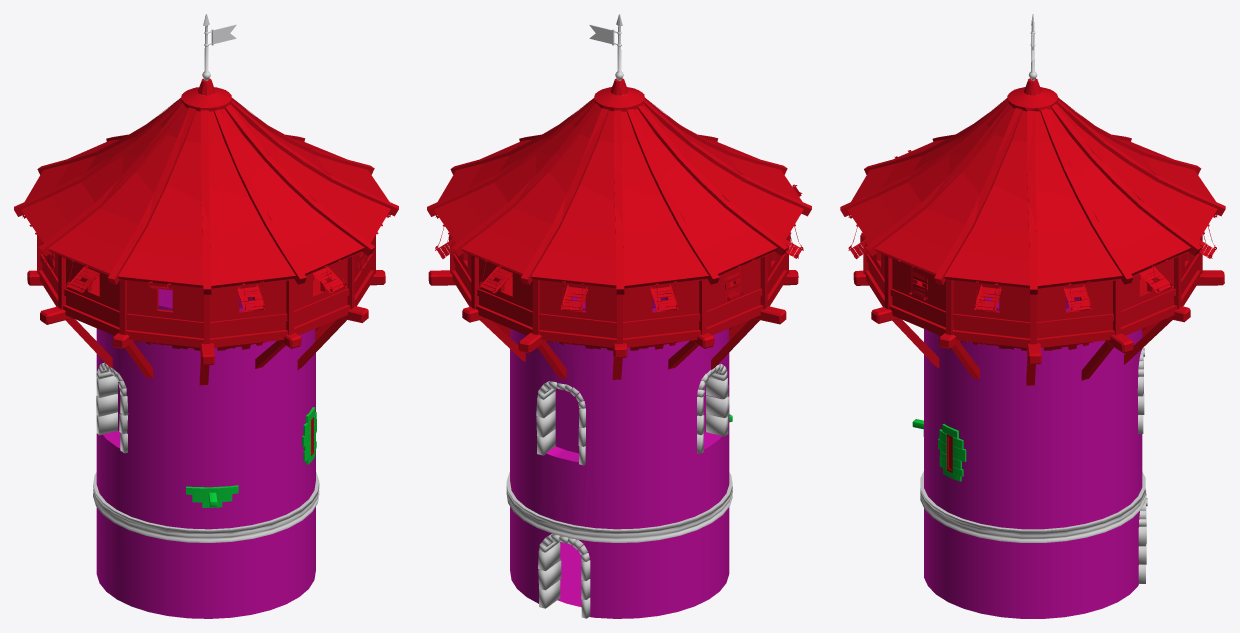
File: Tower_6 (1).fbx
3 views of the same model, side by side, from view 1: azimuth 30°, elevation 25°; view 2: azimuth 150°, elevation 25°; view 3: azimuth 270°, elevation 25° (orthographic).
Parts seen in each view (by area): view 1: Group_4.010, Tower_1.004, Group_2, Group_2.007, Group_4.011; view 2: Group_4.010, Tower_1.004, Group_4.011; view 3: Group_4.010, Tower_1.004, Group_2.007.
Part boxes in pixels (x1,y1,x2,y2): Group_4.010: [14, 78, 398, 385]; Tower_1.004: [93, 289, 319, 618]; Group_2: [186, 485, 238, 507]; Group_2.007: [302, 407, 316, 464]; Group_4.011: [200, 14, 236, 95]; Group_4.010: [427, 78, 811, 379]; Tower_1.004: [506, 291, 732, 618]; Group_4.011: [589, 14, 623, 80]; Group_4.010: [840, 78, 1225, 385]; Tower_1.004: [920, 291, 1147, 618]; Group_2.007: [938, 424, 966, 481].
Bounding box in the file's own units: 1137 × 1813 × 1133.
